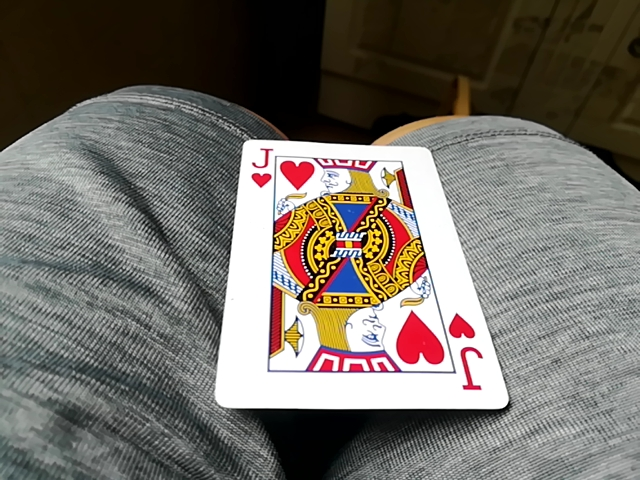hx j: (221, 137, 500, 416)
